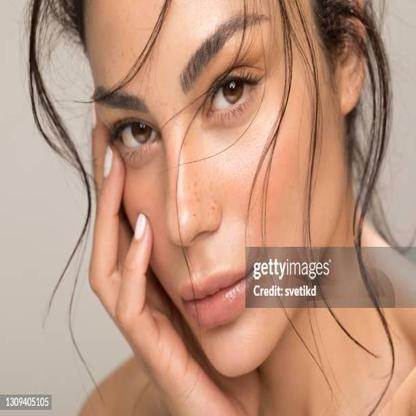person: (29, 2, 411, 415)
